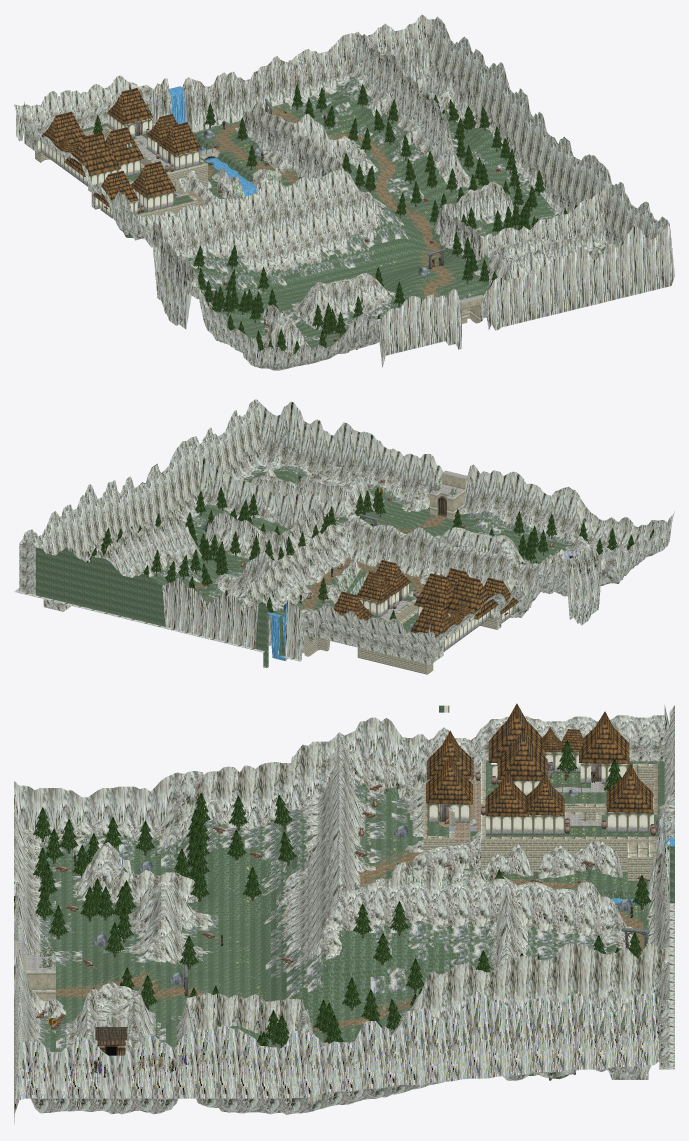
The model's file is azra.gltf.
3 views of the same model, one above another, from view 1: azimuth 30°, elevation 25°; view 2: azimuth 150°, elevation 25°; view 3: azimuth 270°, elevation 25° (orthographic). The views are drawn at different scales.
Bounding box in the file's own units: 126 × 38 × 126.
Materials: 50 (50 with a texture image).
